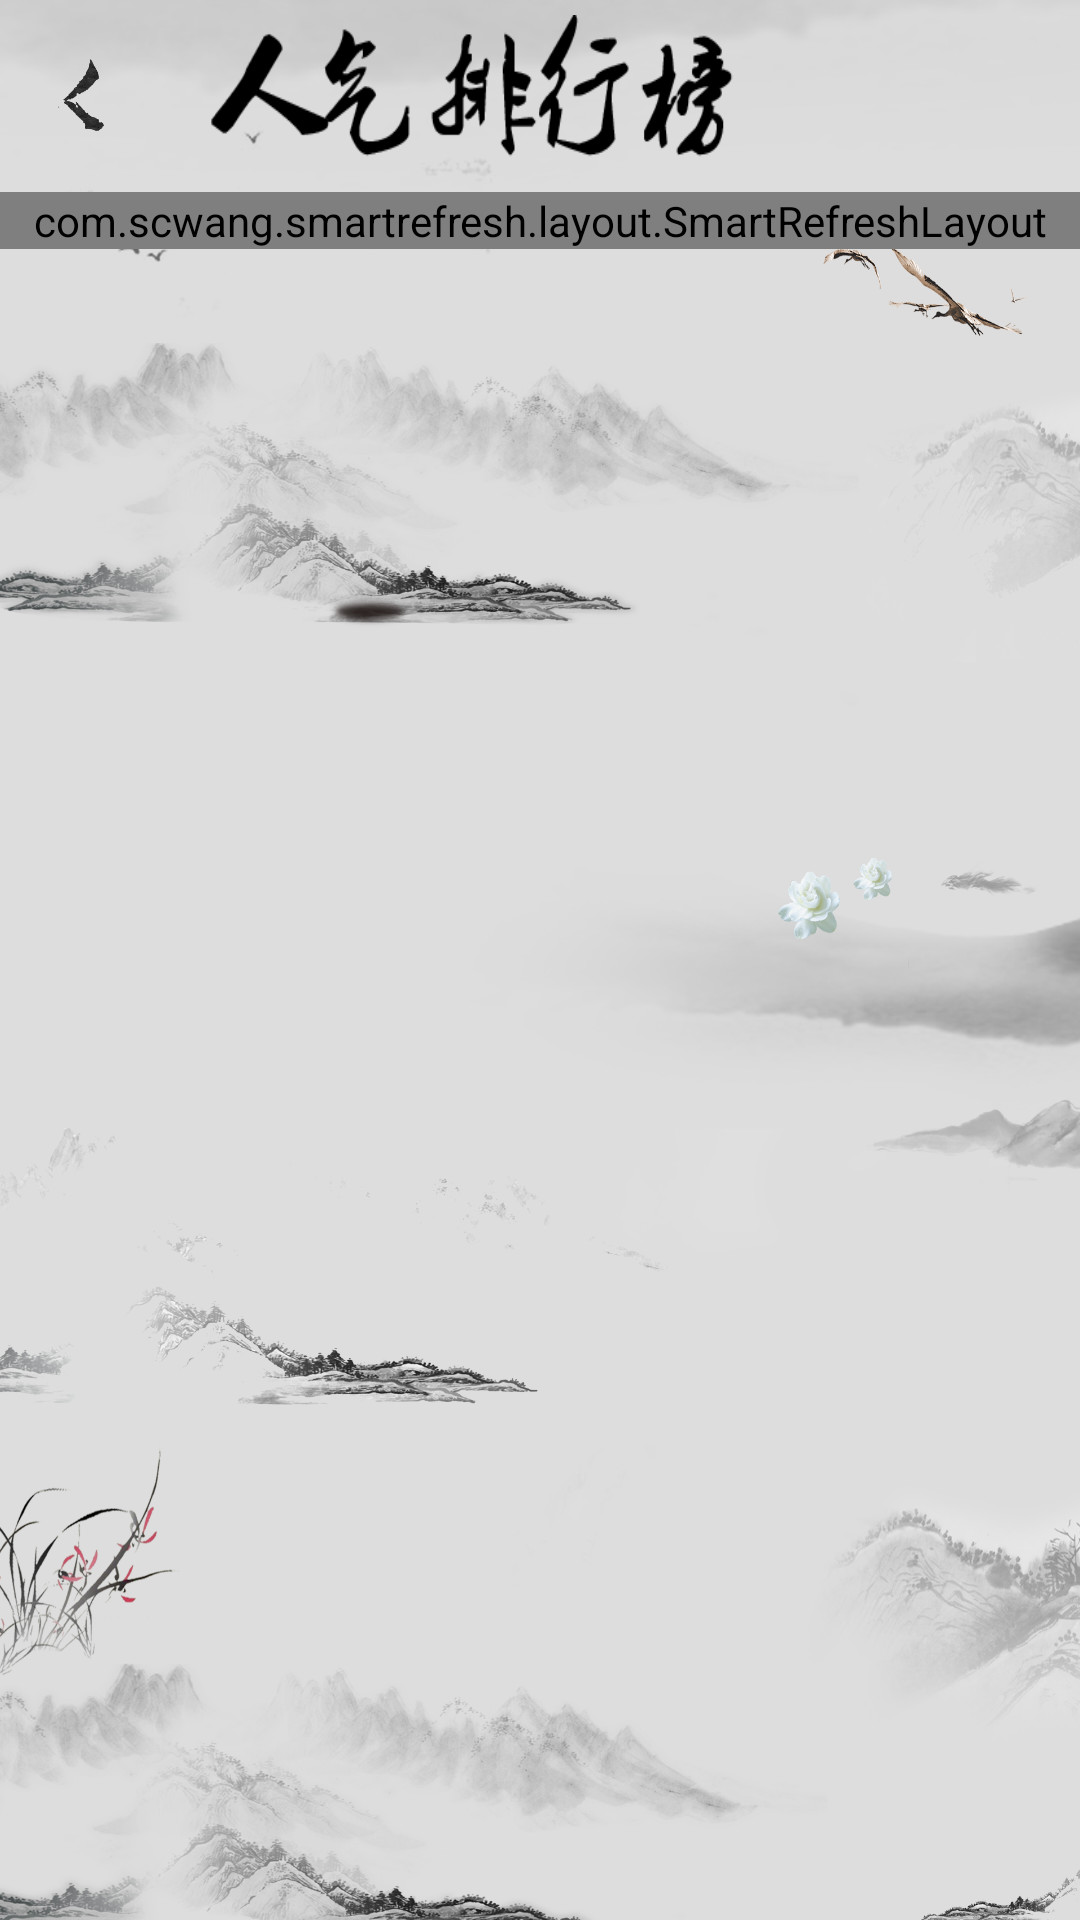

Screen size 1080px×1920px. Icon name, then its box in pixels as region(x1, y1, x2, y2):
back: region(58, 59, 104, 131)
